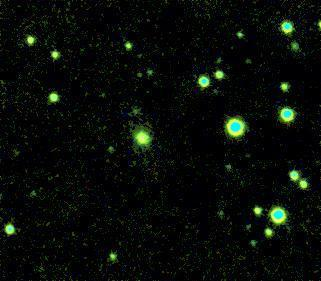star: (0, 137, 28, 167)
